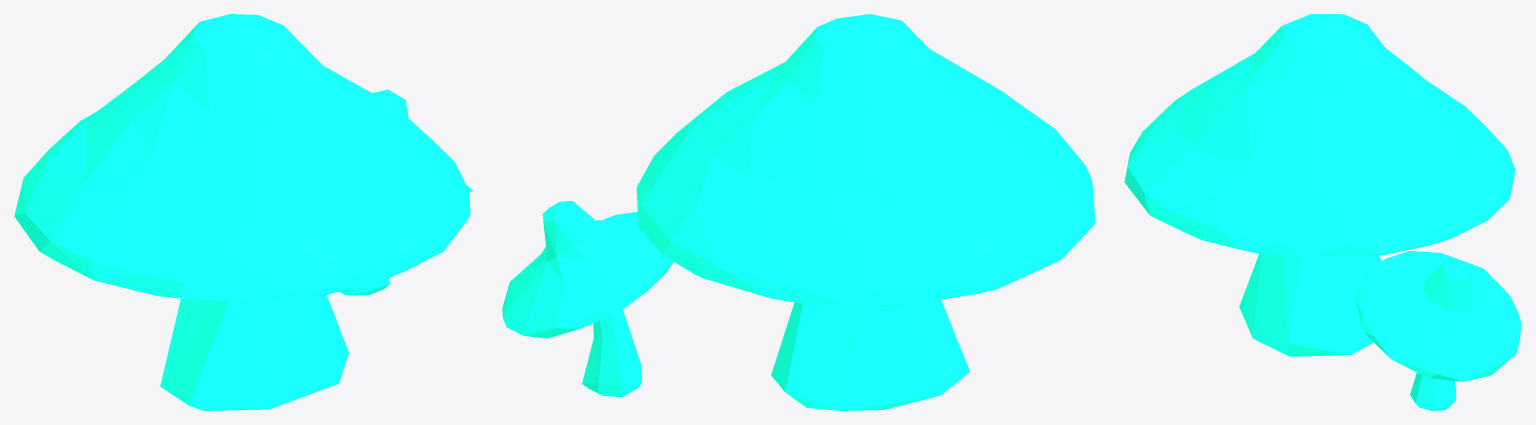
Rendered from bright_4.glb.
The picture shows the model from 3 angles, left to right: view 1: azimuth 30°, elevation 25°; view 2: azimuth 150°, elevation 25°; view 3: azimuth 270°, elevation 25°; orthographic projection. The views are drawn at different scales.
Parts seen in each view (by area): view 1: bright_4; view 2: bright_4; view 3: bright_4.
Part boxes in pixels (<box>): bright_4: <box>14,14,472,410</box>; bright_4: <box>502,14,1095,410</box>; bright_4: <box>1124,14,1521,410</box>.
Size of the model in its own units: 8.48 by 6.04 by 7.09.
